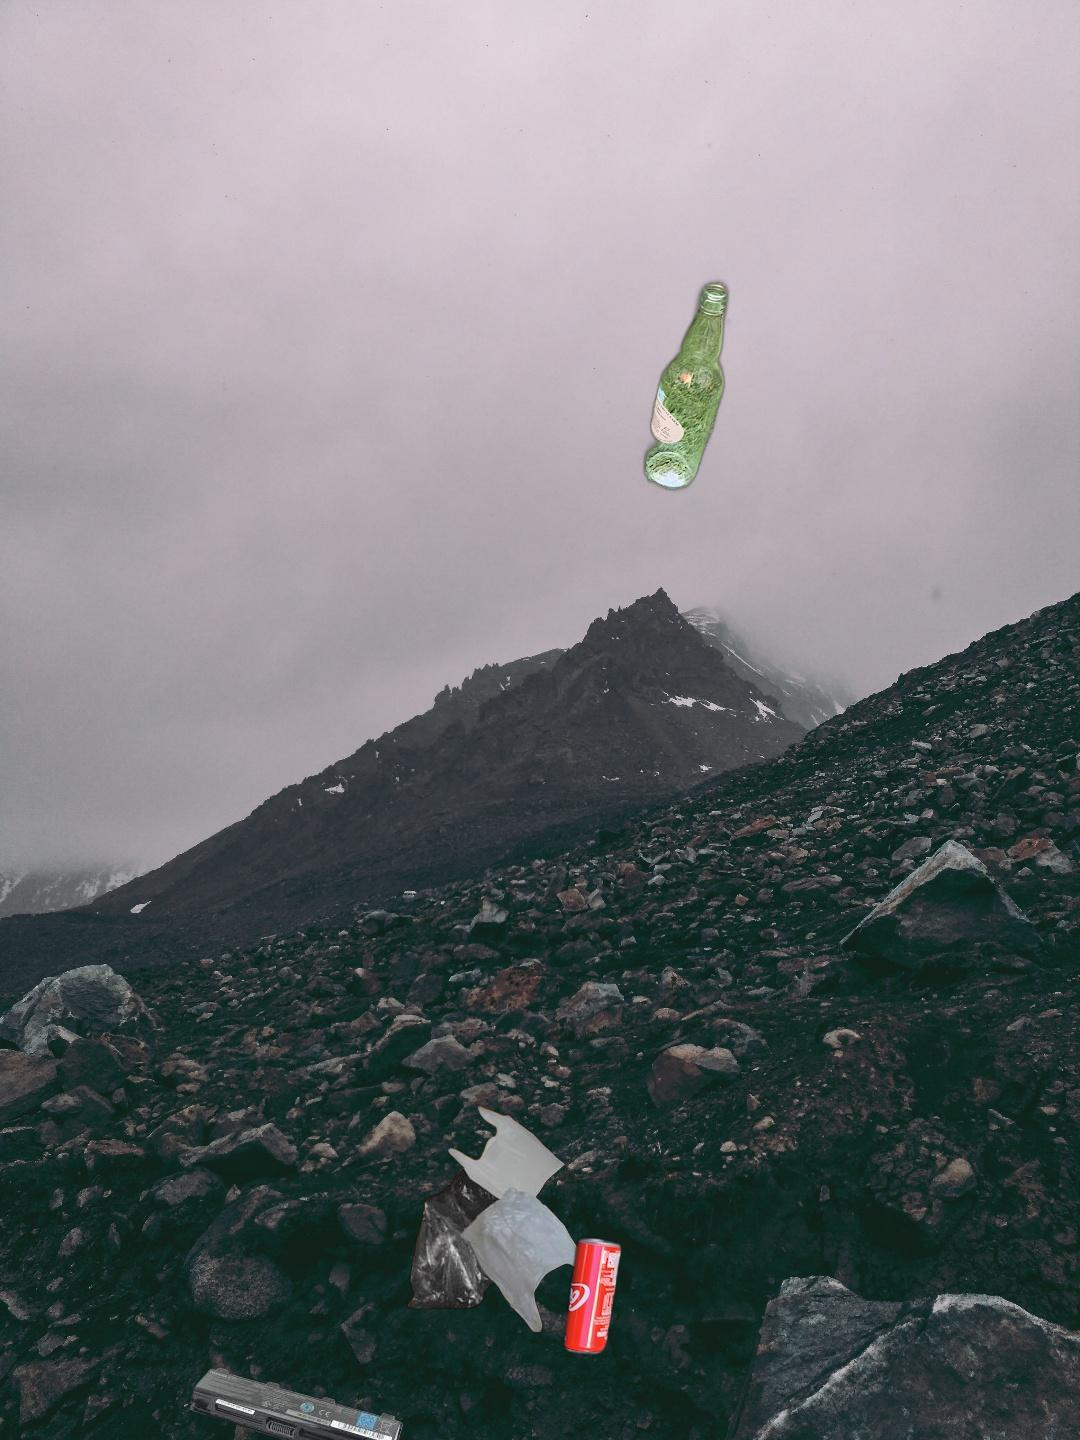battery: (187, 1365, 406, 1440)
glass: (358, 259, 733, 799)
metal-cans: (787, 1145, 1080, 1440), (559, 1231, 626, 1359)
plastic-bag: (405, 1093, 609, 1335)
plastic-bottles: (408, 1044, 804, 1440)
